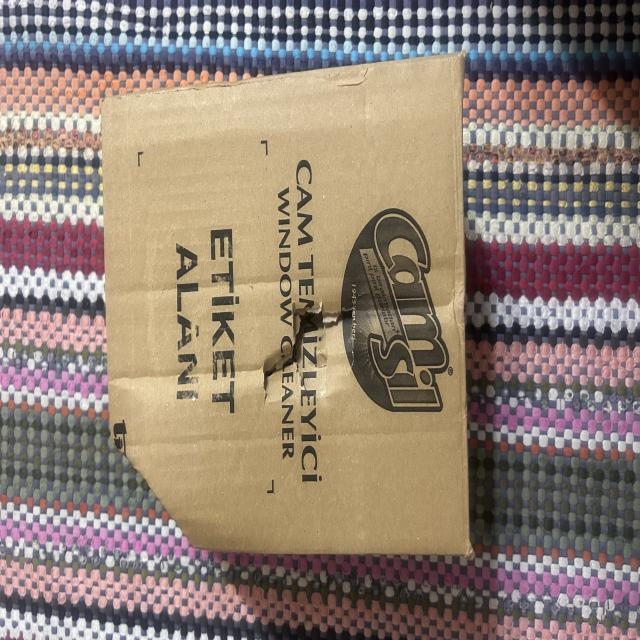damaged: (102, 51, 471, 556), (101, 406, 203, 595), (256, 286, 360, 406)
